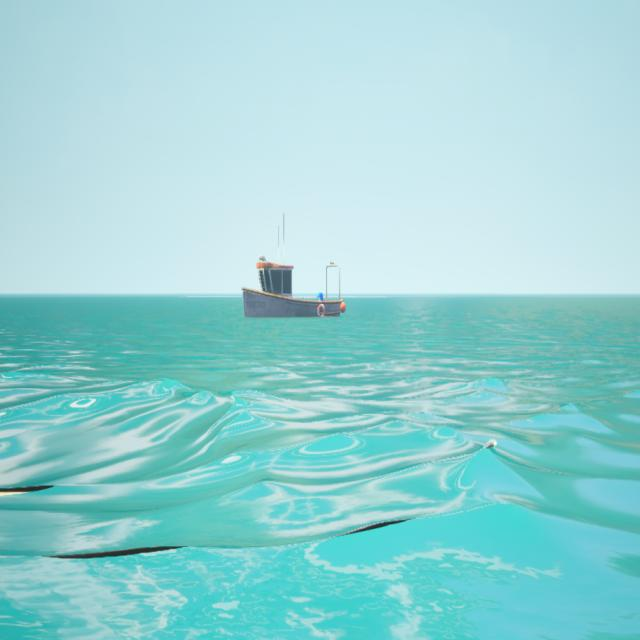ship: (230, 194, 357, 334)
